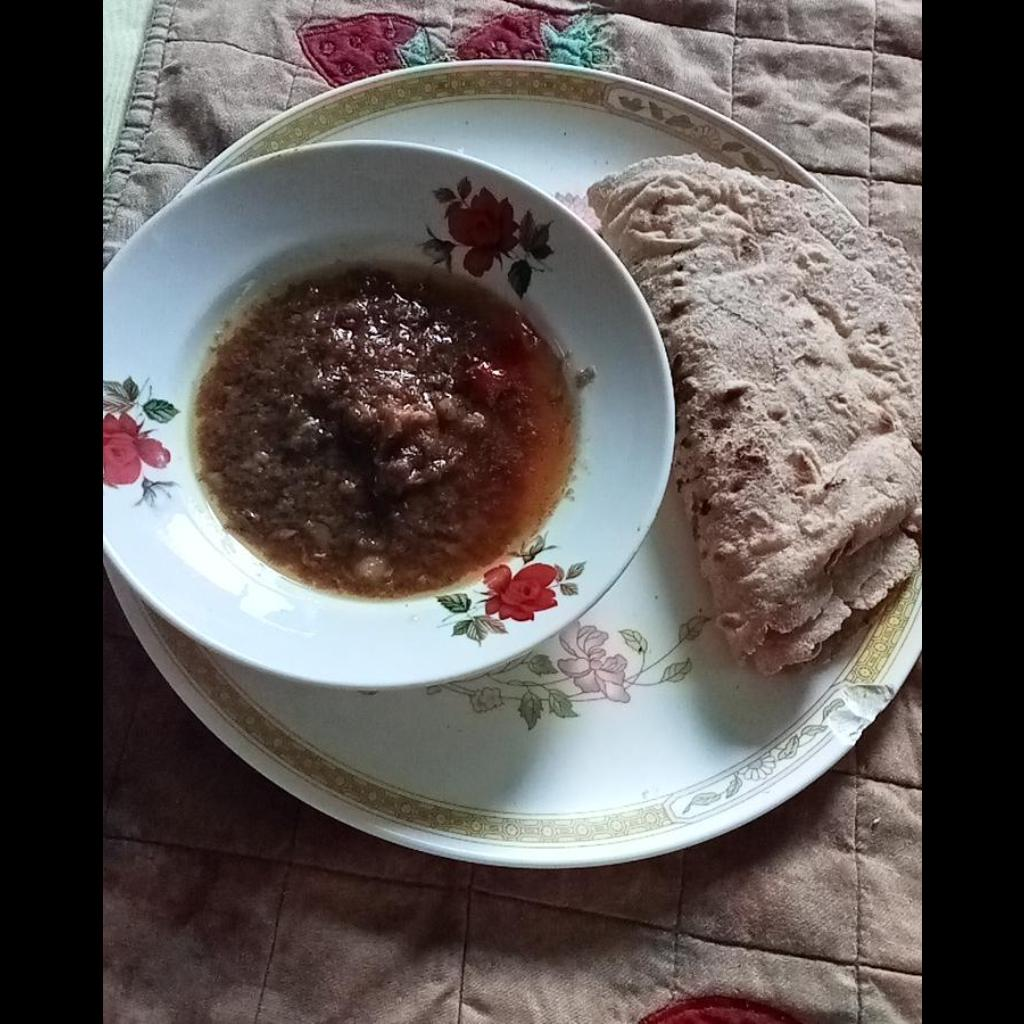beef: (195, 274, 513, 593)
ruti: (580, 149, 920, 678)
